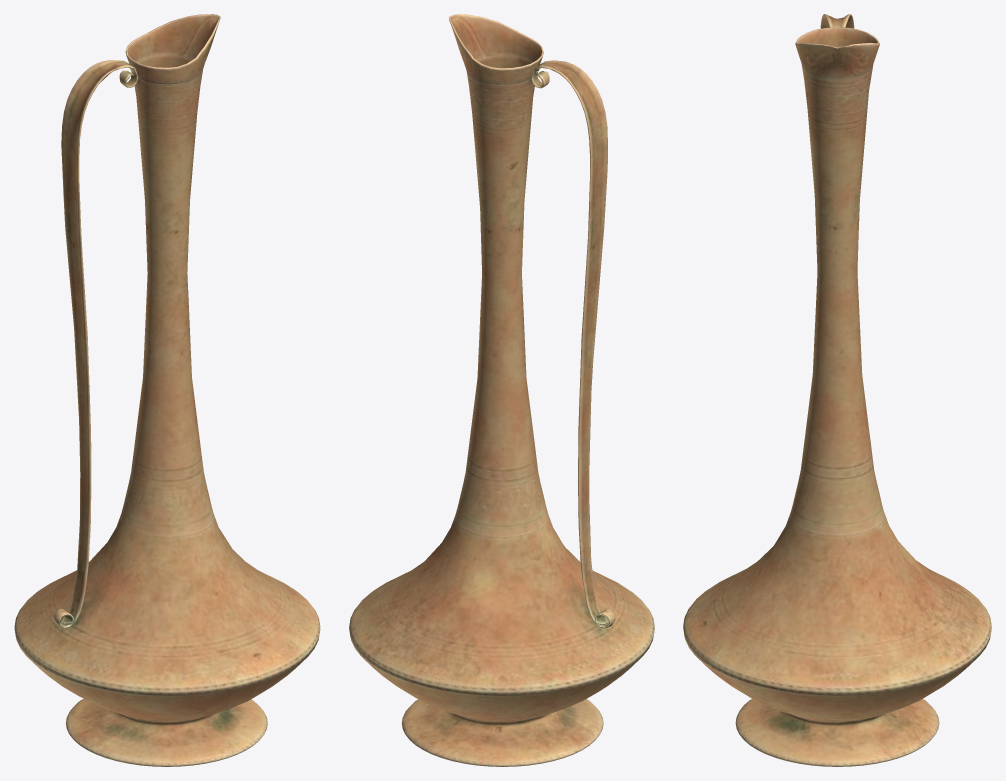
The model's file is brass_vase_02.glb.
3 views of the same model, side by side, from view 1: azimuth 30°, elevation 25°; view 2: azimuth 150°, elevation 25°; view 3: azimuth 270°, elevation 25° (orthographic).
Parts seen in each view (by area): view 1: brass_vase_02; view 2: brass_vase_02; view 3: brass_vase_02.
Part boxes in pixels (box(x1,y1,x2,y2)): brass_vase_02: box(14, 14, 320, 766); brass_vase_02: box(349, 14, 654, 766); brass_vase_02: box(683, 14, 991, 766).
Bounding box in the file's own units: 0.2102 × 0.5286 × 0.2102.
1 material, 1 textured.
